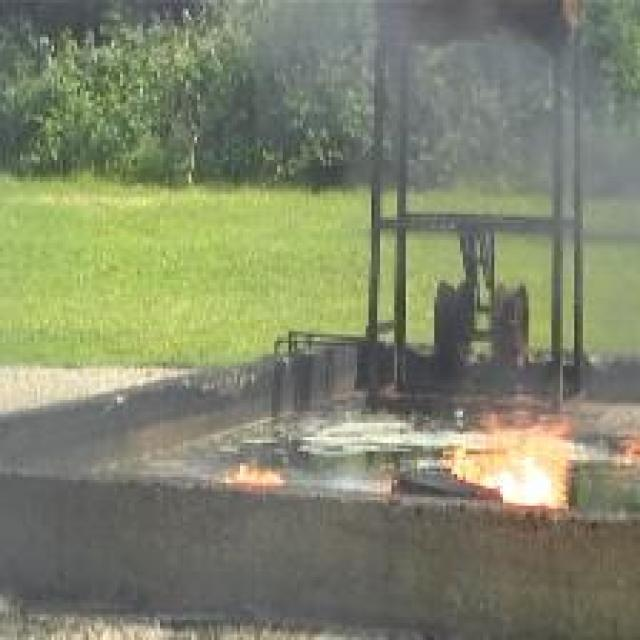Fire: (450, 414, 573, 508), (224, 460, 284, 486)
